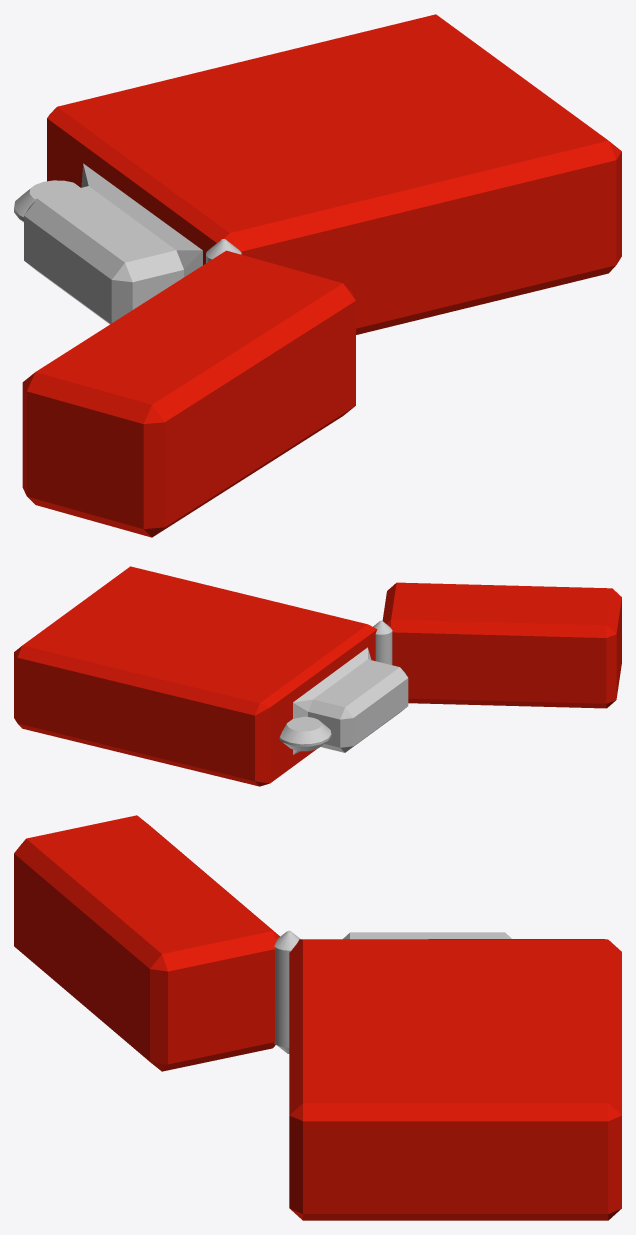
File: Lighter.fbx
3 views of the same model, one above another, from view 1: azimuth 30°, elevation 25°; view 2: azimuth 150°, elevation 25°; view 3: azimuth 270°, elevation 25° (orthographic). The views are drawn at different scales.
Visible parts, largest first — view 1: Lighter; view 2: Lighter; view 3: Lighter.
Part boxes in pixels (left/top/right/bottom): Lighter: left=14, top=14, right=621, bottom=537; Lighter: left=14, top=566, right=621, bottom=786; Lighter: left=14, top=815, right=621, bottom=1220.
Bounding box in the file's own units: 52.07 × 9.88 × 44.77.
